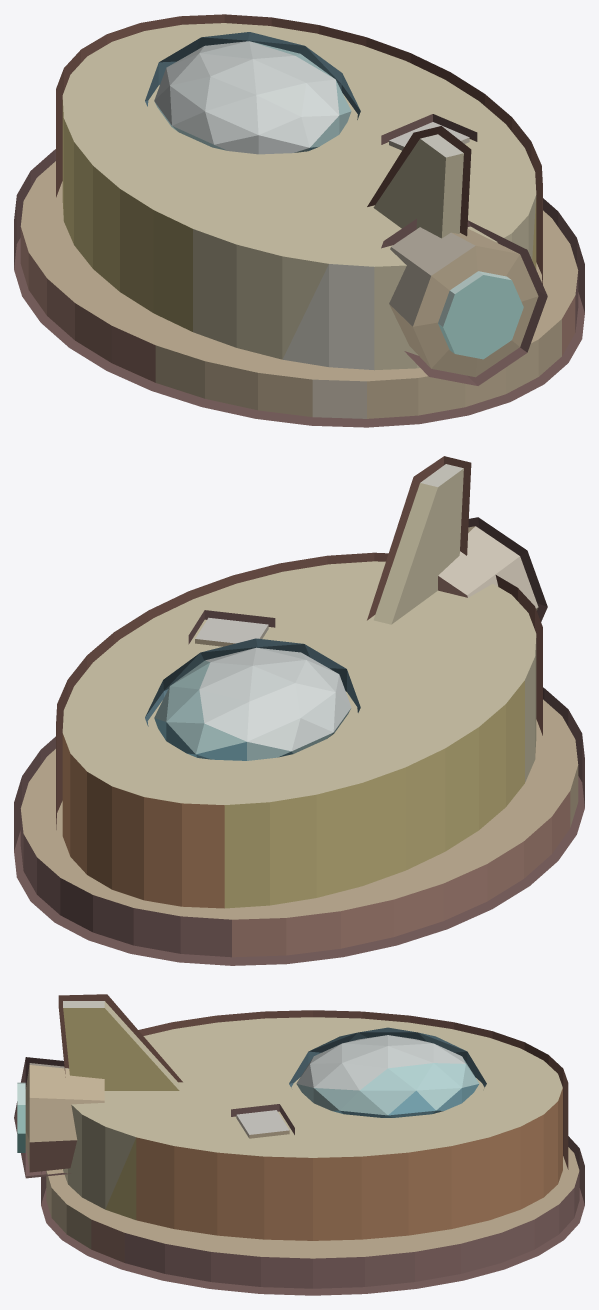
File: ship_hover_sled_c1.glb
3 renders of one model, top to bottom at view 1: azimuth 30°, elevation 25°; view 2: azimuth 150°, elevation 25°; view 3: azimuth 270°, elevation 25°, orthographic. The views are drawn at different scales.
Visible parts, largest first — view 1: ship_hover_sled_c1; view 2: ship_hover_sled_c1; view 3: ship_hover_sled_c1.
Boxes of the visible parts, x1,y1,x2,y2 form: ship_hover_sled_c1: (14, 14, 584, 427); ship_hover_sled_c1: (14, 456, 584, 965); ship_hover_sled_c1: (14, 994, 584, 1295).
Size of what is drawn, in the model's own units: 5.13 by 2.73 by 6.86.
